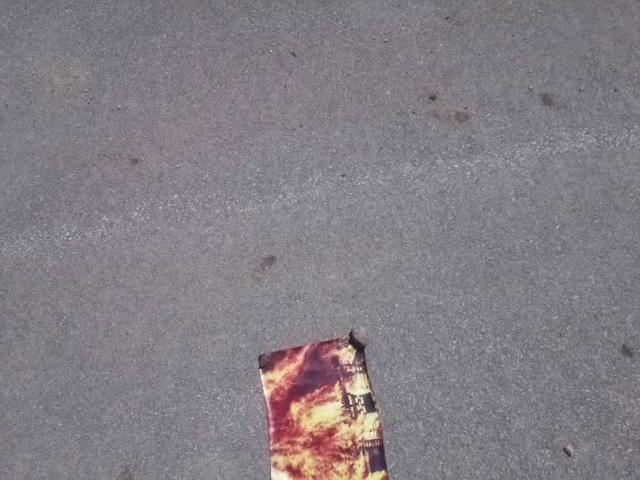fire-poster: (255, 324, 391, 479)
